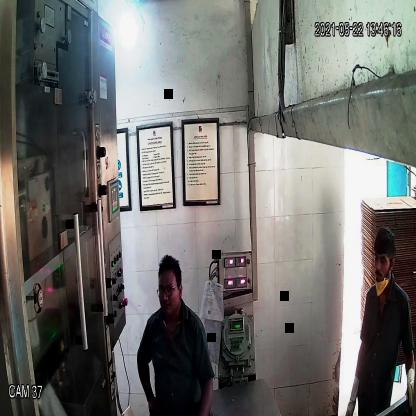goggles: (154, 280, 184, 300)
no_goggles: (370, 250, 394, 270)
